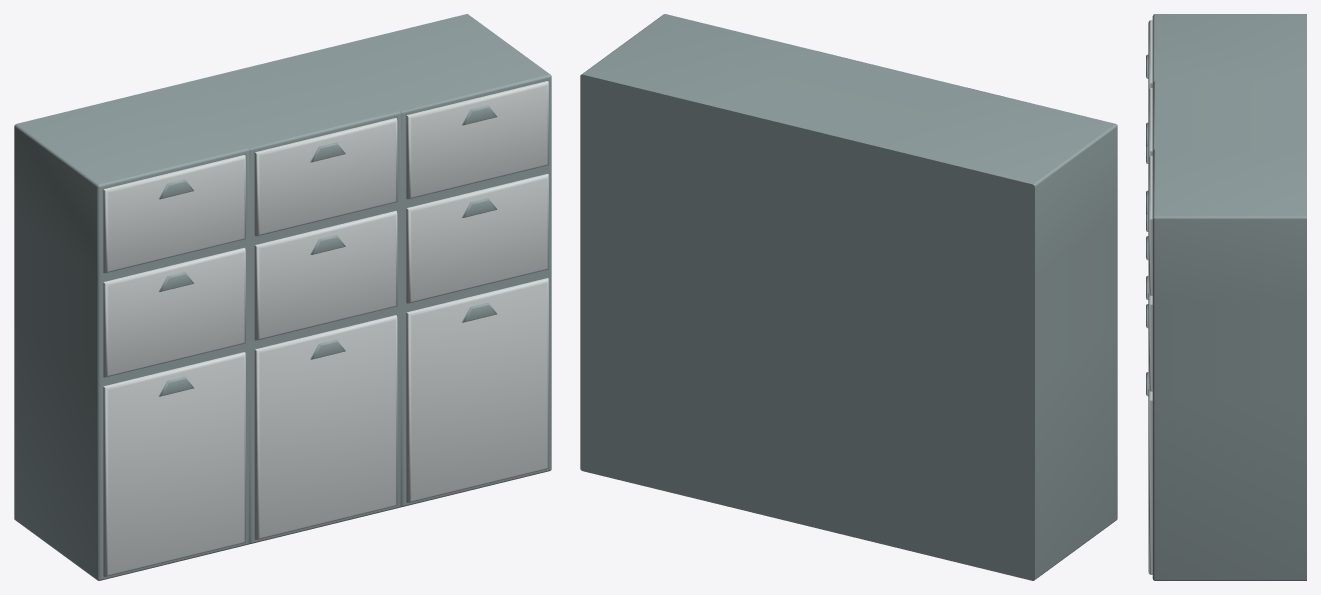
The model's file is Document-Cabinet.fbx.
The picture shows the model from 3 angles, left to right: view 1: azimuth 30°, elevation 25°; view 2: azimuth 150°, elevation 25°; view 3: azimuth 270°, elevation 25°; orthographic projection. The views are drawn at different scales.
Visible parts, largest first — view 1: Document-Cabinet.002, Document-Cabinet, Document-Cabinet.001; view 2: Document-Cabinet.002, Document-Cabinet, Document-Cabinet.001; view 3: Document-Cabinet.001, Document-Cabinet, Document-Cabinet.002.
Boxes of the visible parts, x1,y1,x2,y2 form: Document-Cabinet.002: (14, 87, 249, 580); Document-Cabinet: (166, 50, 401, 544); Document-Cabinet.001: (317, 14, 551, 507); Document-Cabinet.002: (883, 87, 1117, 580); Document-Cabinet: (731, 50, 965, 544); Document-Cabinet.001: (580, 14, 814, 507); Document-Cabinet.001: (1146, 149, 1306, 580); Document-Cabinet: (1146, 81, 1306, 328); Document-Cabinet.002: (1146, 14, 1306, 260).
Size of the model in its own units: 2.4 by 2 by 0.8.
